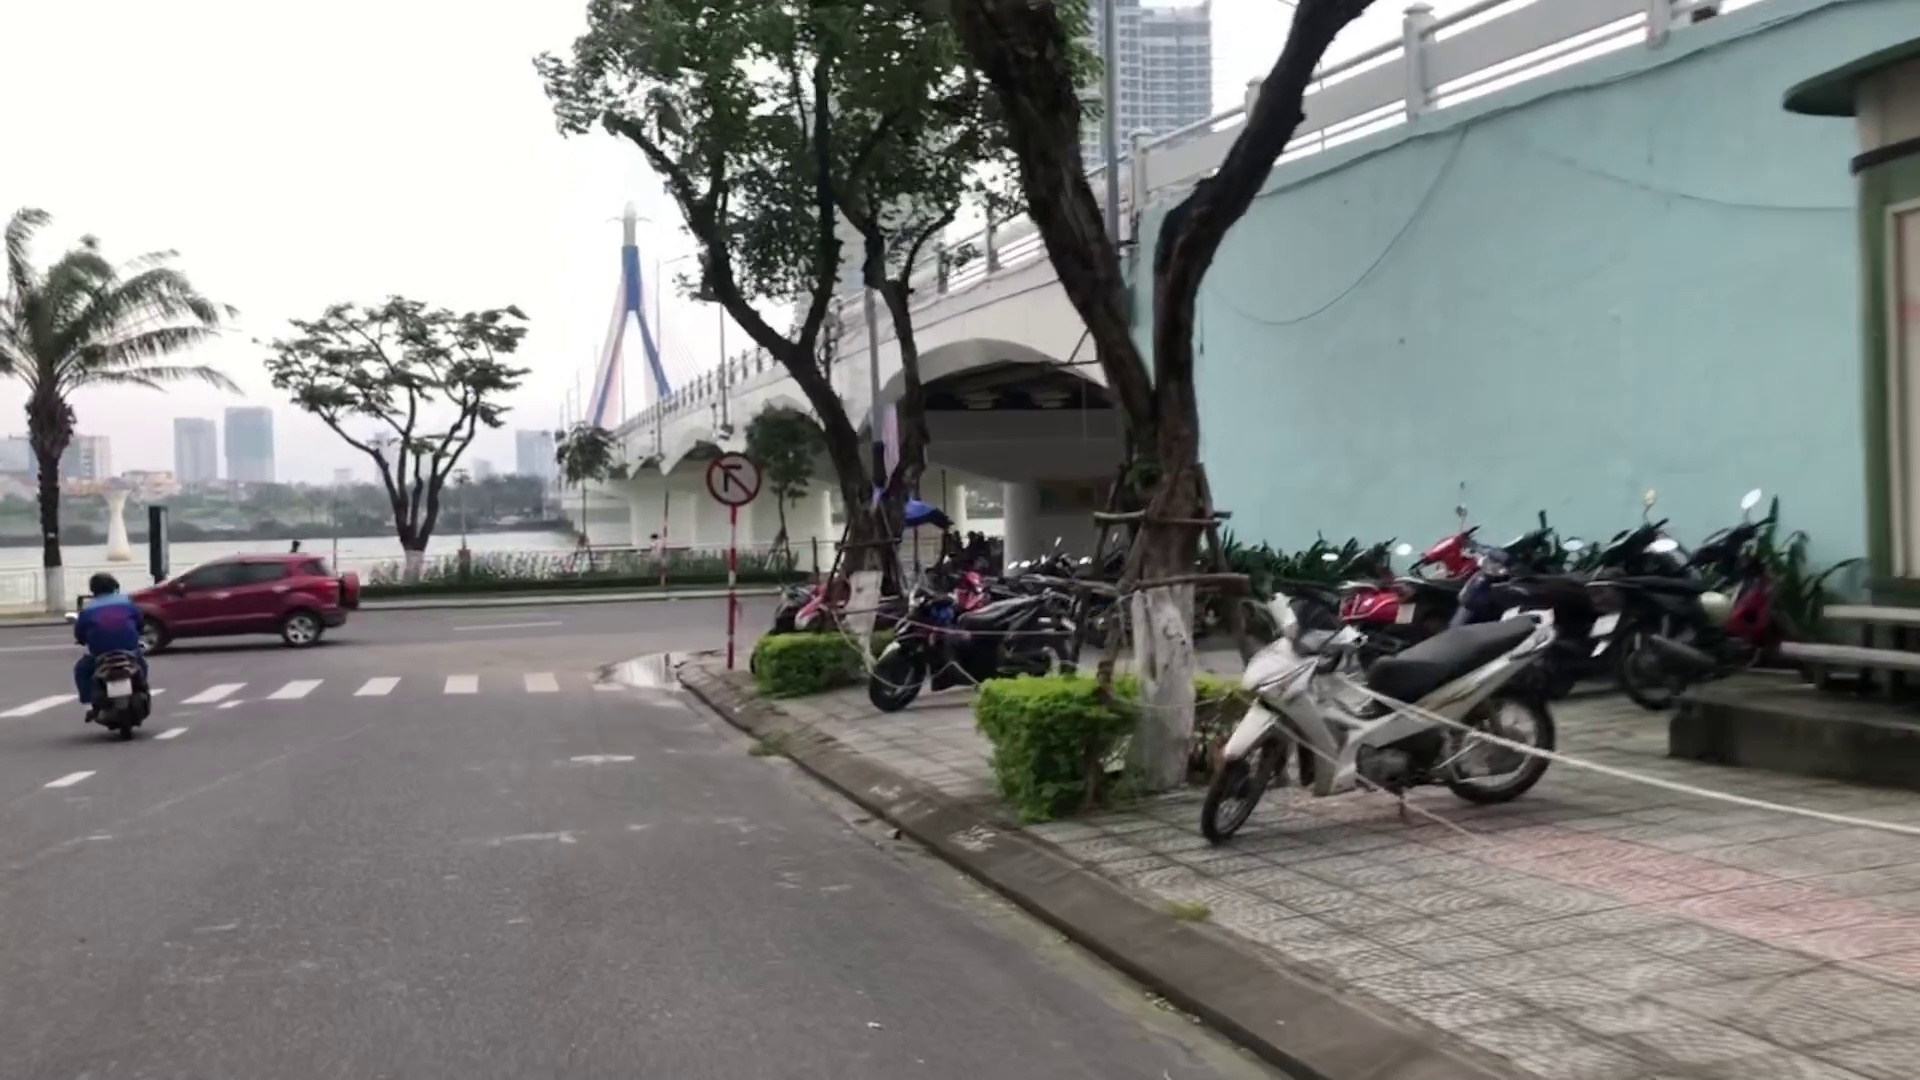Bien khac: (707, 448, 761, 506)
